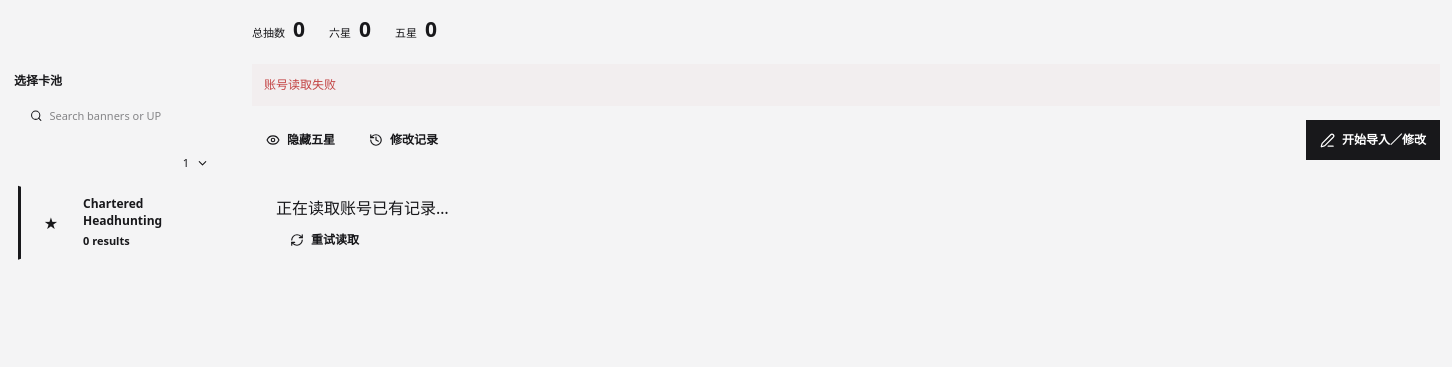
workbench account workspace › does not misreport a failed account read as an empty account and offers retry
Expected: the message "账号读取失败" is shown, [252, 64, 1440, 106]
Expected: the button "开始导入／修改" is disabled, [1306, 120, 1440, 160]
Click the button "重试读取". click: (324, 240)
box: [276, 220, 373, 260]
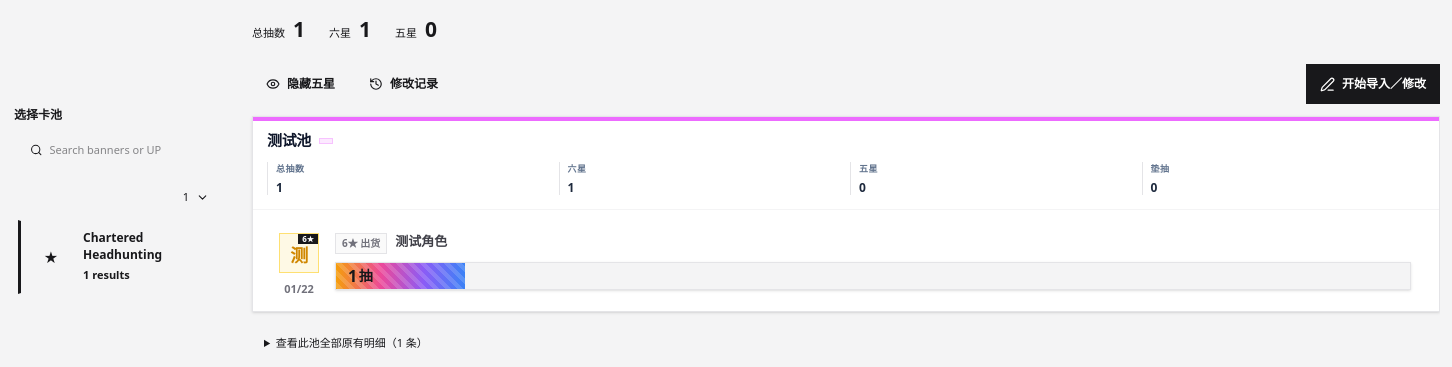
Result: the button "开始导入／修改" is enabled at [1306, 64, 1440, 104]
Result: the heading "查看此池全部原有明细（1 条）" is shown at [276, 335, 428, 350]
